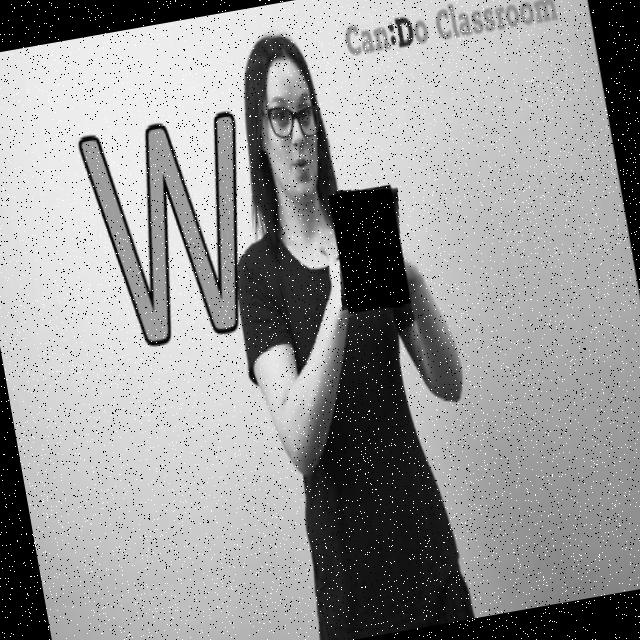W: (325, 183, 415, 316)
